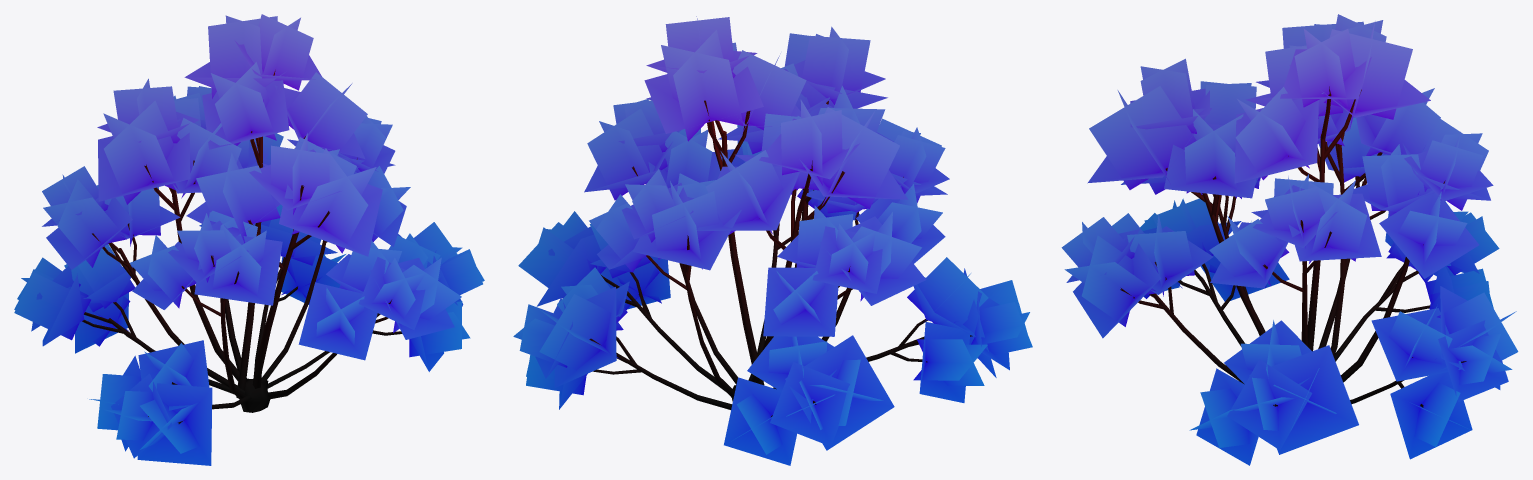
The model's file is SM_Env_Bush_Tropical_01.fbx.
The picture shows the model from 3 angles, left to right: view 1: azimuth 30°, elevation 25°; view 2: azimuth 150°, elevation 25°; view 3: azimuth 270°, elevation 25°; orthographic projection. The views are drawn at different scales.
Parts seen in each view (by area): view 1: SM_Env_Bush_Tropical_01_LOD0; view 2: SM_Env_Bush_Tropical_01_LOD0; view 3: SM_Env_Bush_Tropical_01_LOD0.
Boxes of the visible parts, bbox=[...] form: SM_Env_Bush_Tropical_01_LOD0: bbox=[14, 14, 484, 465]; SM_Env_Bush_Tropical_01_LOD0: bbox=[513, 16, 1032, 465]; SM_Env_Bush_Tropical_01_LOD0: bbox=[1061, 14, 1518, 465].
Size of what is drawn, in the model's own units: 224 by 194 by 199.
